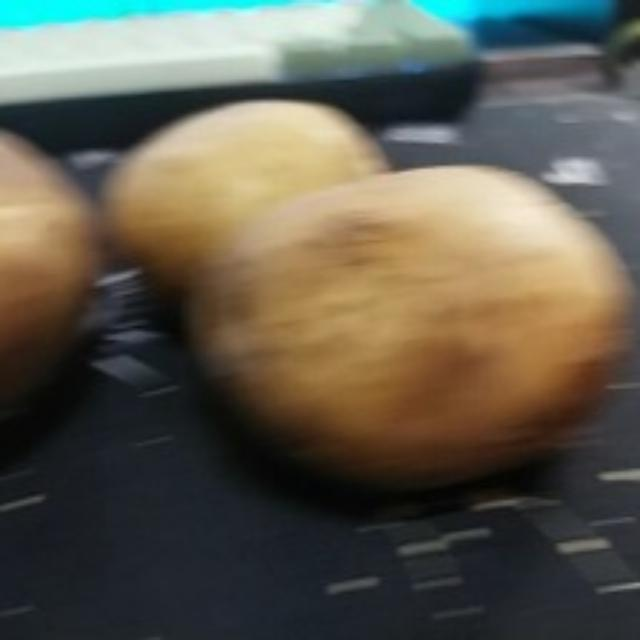Damaged potato: (168, 162, 640, 498), (0, 128, 96, 358)
Potato: (100, 96, 408, 298)
